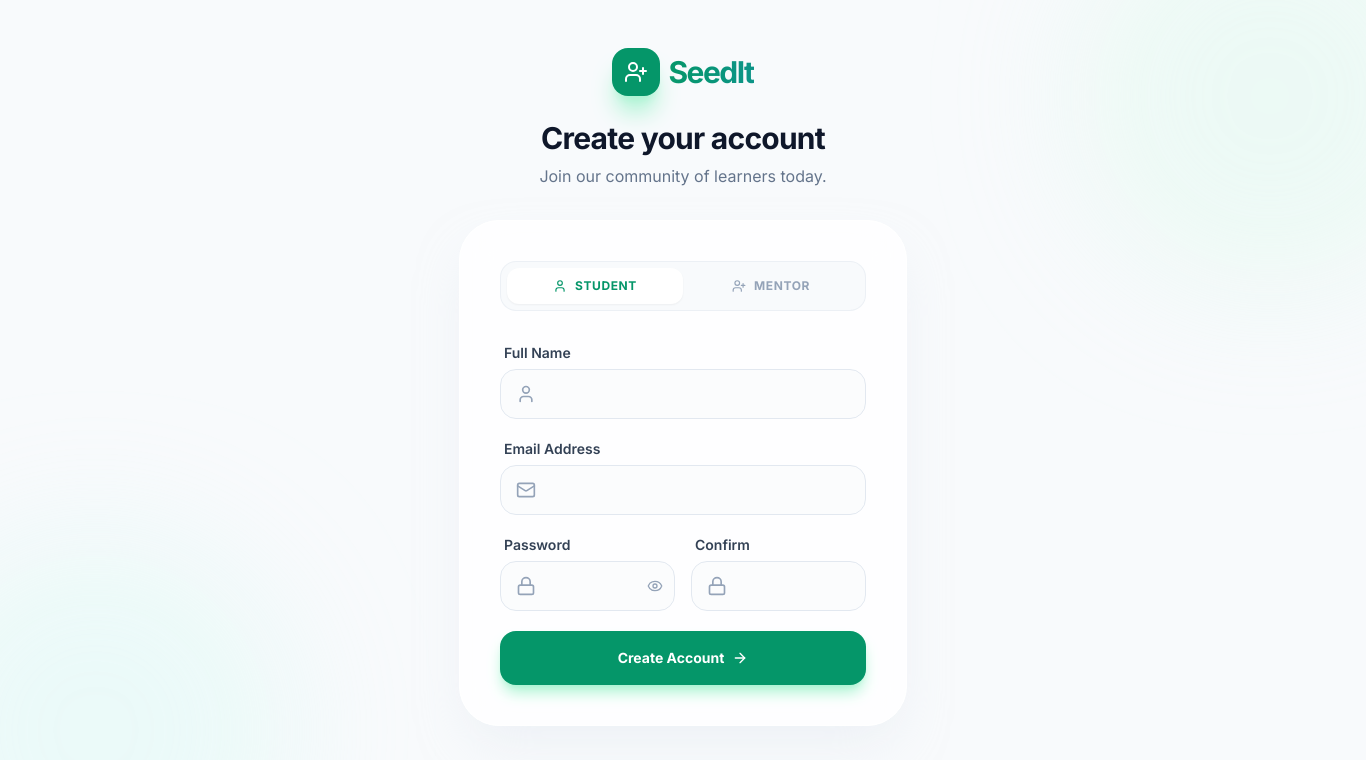
Scenario: Unit Testing - Register Component › updates subtitle text when role switches to mentor
Click the button "Mentor" at point(771, 286), box [683,268,859,304]
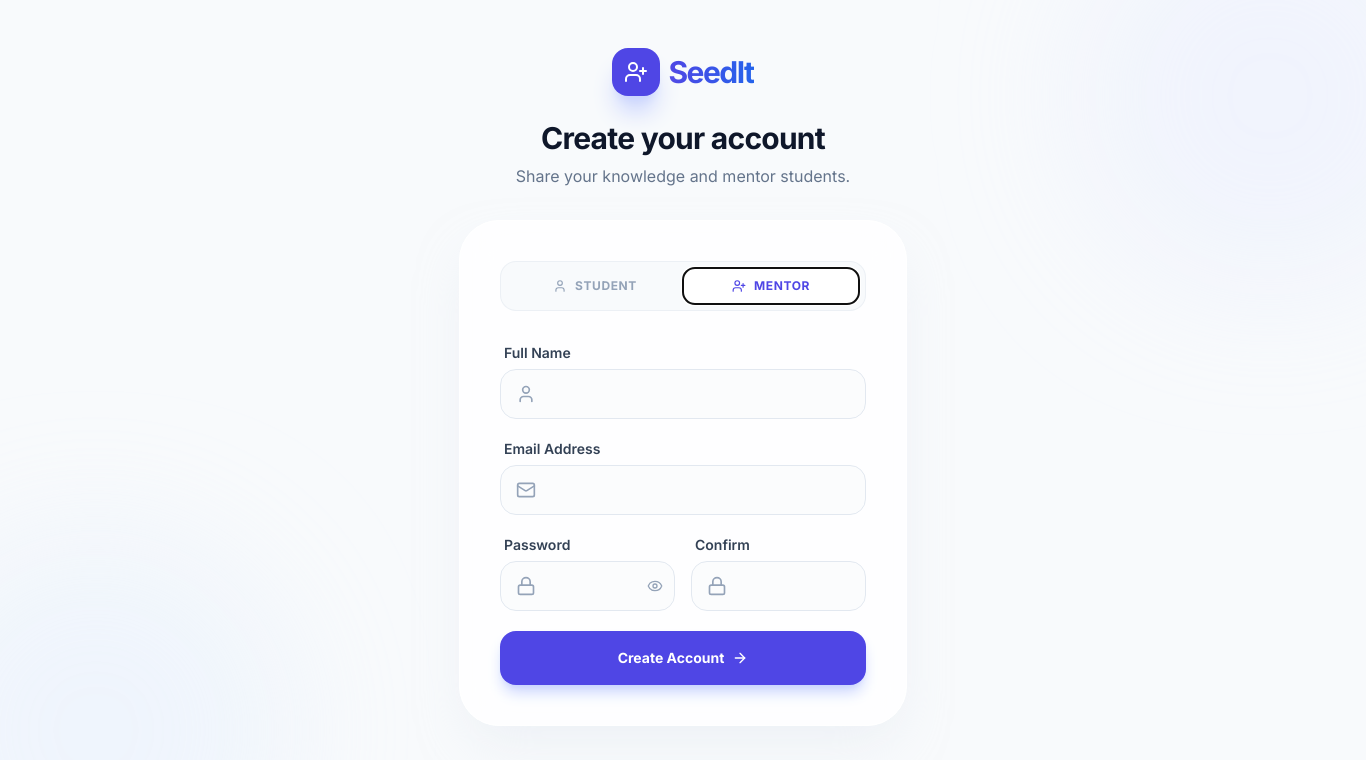
Expected: the text "Share your knowledge and mentor students." is shown, [516,166,850,186]
